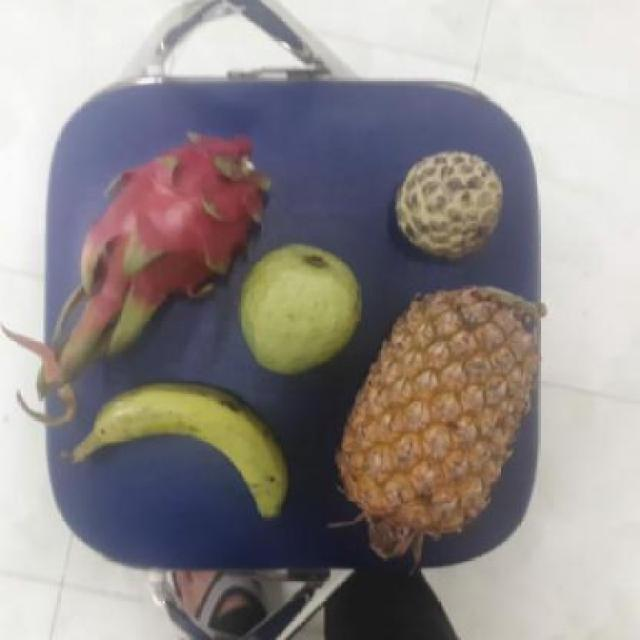dragon fruit: (78, 128, 262, 308)
guava: (233, 244, 362, 370)
pineapple: (336, 287, 536, 547)
sugar apple: (391, 152, 504, 257)
